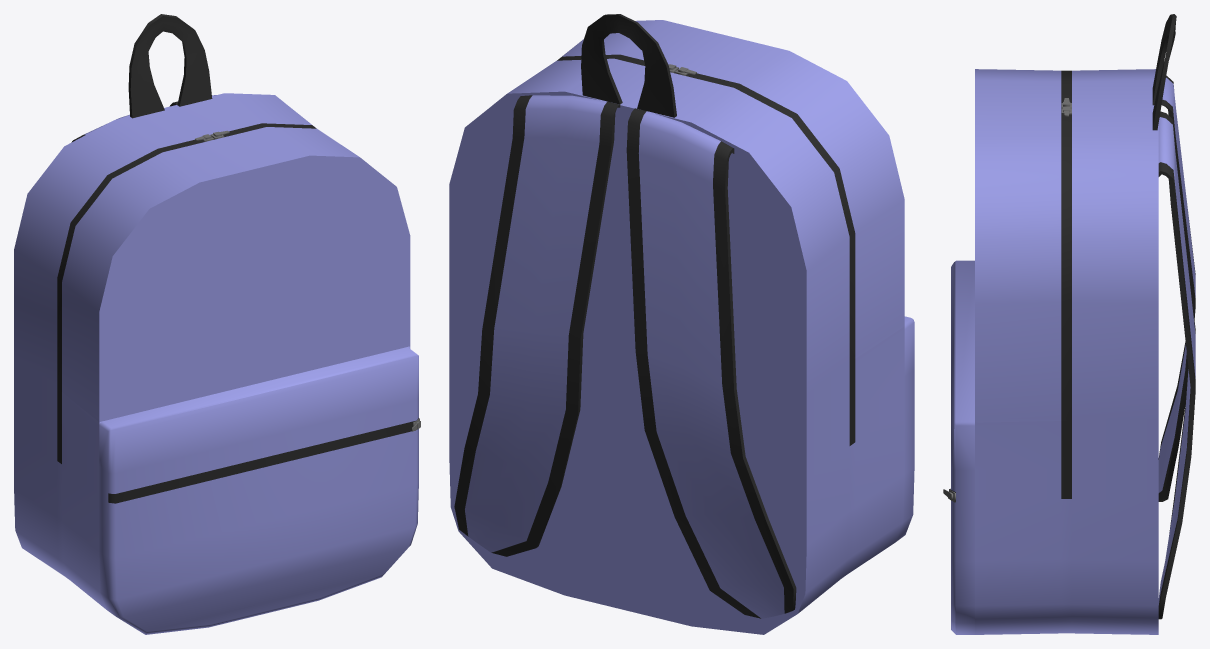
File: Mochila.fbx
3 renders of one model, left to right at view 1: azimuth 30°, elevation 25°; view 2: azimuth 150°, elevation 25°; view 3: azimuth 270°, elevation 25°, orthographic. The views are drawn at different scales.
Parts seen in each view (by area): view 1: Mochila; view 2: Mochila; view 3: Mochila.
Boxes of the visible parts, x1,y1,x2,y2 form: Mochila: [14, 14, 420, 634]; Mochila: [449, 14, 914, 634]; Mochila: [943, 14, 1195, 634].
Size of the model in its own units: 29.94 by 48.24 by 19.54.
